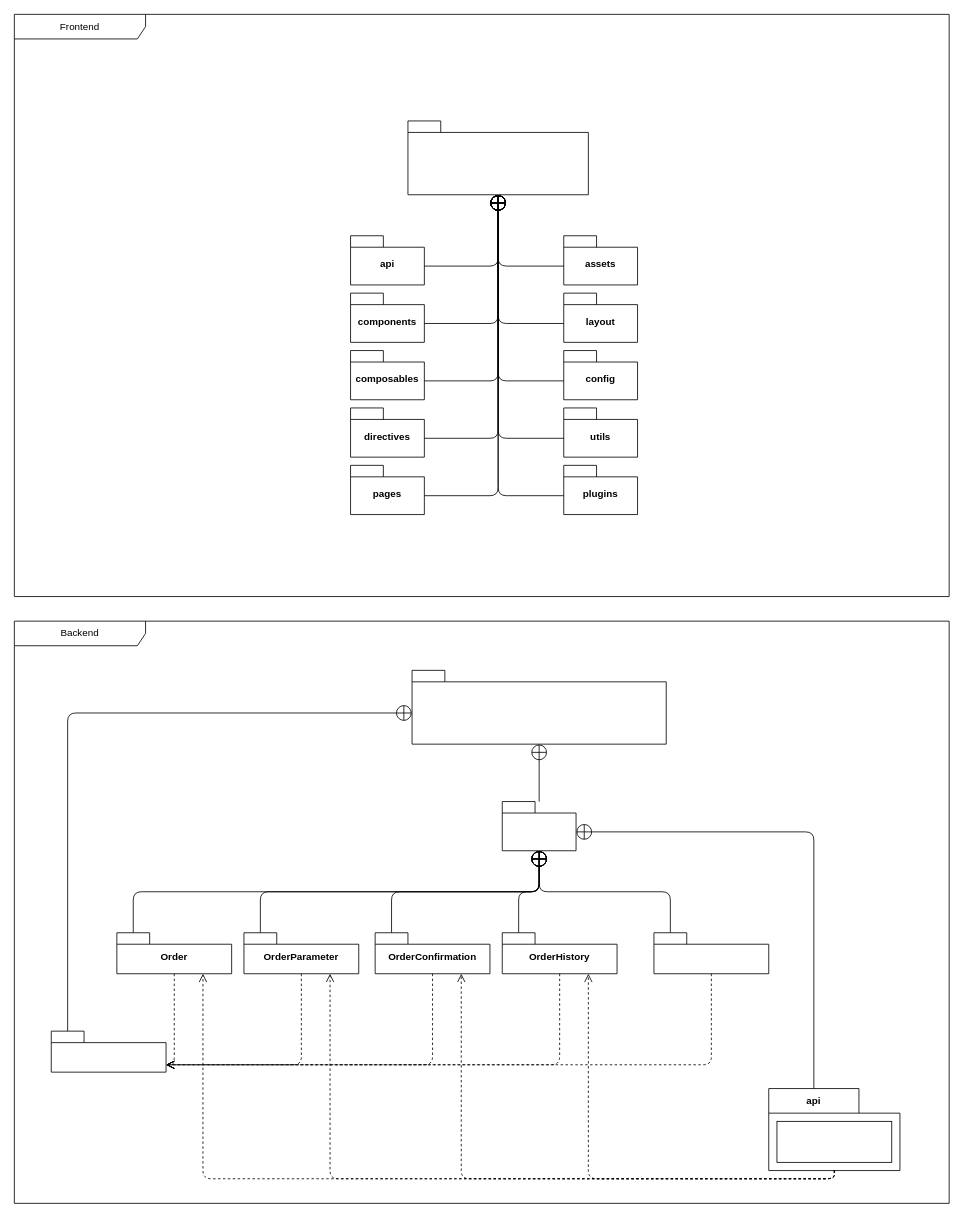
Some shapes in this 964 by 1218 pixel diagram are drawn without their labels. The shapes that lost their labels are listed below. From the top down, each one's centre as x and y in pixels, then its label:
the point at 497,157: src
the point at 538,707: app
the point at 538,826: features
the point at 711,953: common
the point at 108,1051: Core
the point at 834,1141: Router
